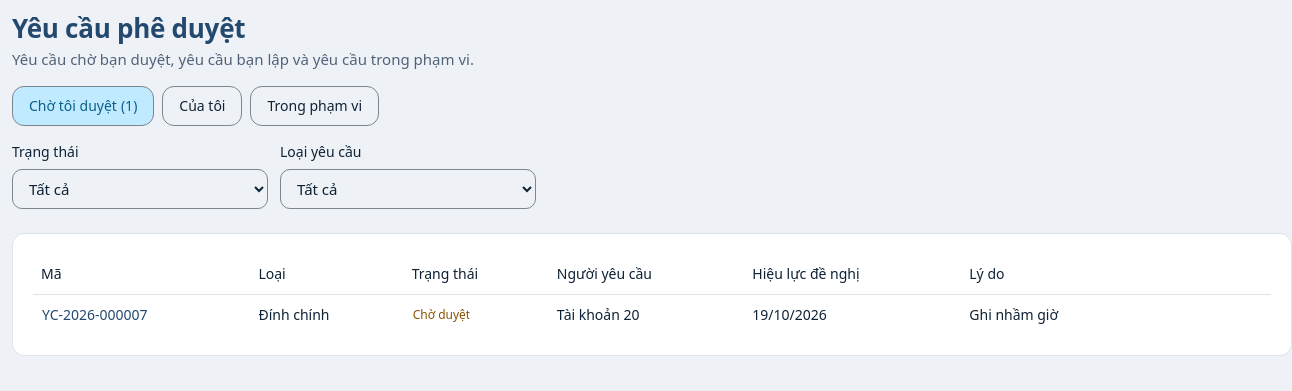
Test: ApprovalInbox › US5_1_tabChoToiDuyet_hienDong_loai_trangThai_ngayHieuLuc
Expected: the row that starts with "YC-2026-000007" is shown, x1=41 y1=304 x2=149 y2=326
Expected: the row that starts with "YC-2026-000007" shows "Đính chính", x1=258 y1=305 x2=330 y2=324
Click the button "Của tôi" at [202, 106], box x1=162 y1=86 x2=242 y2=126
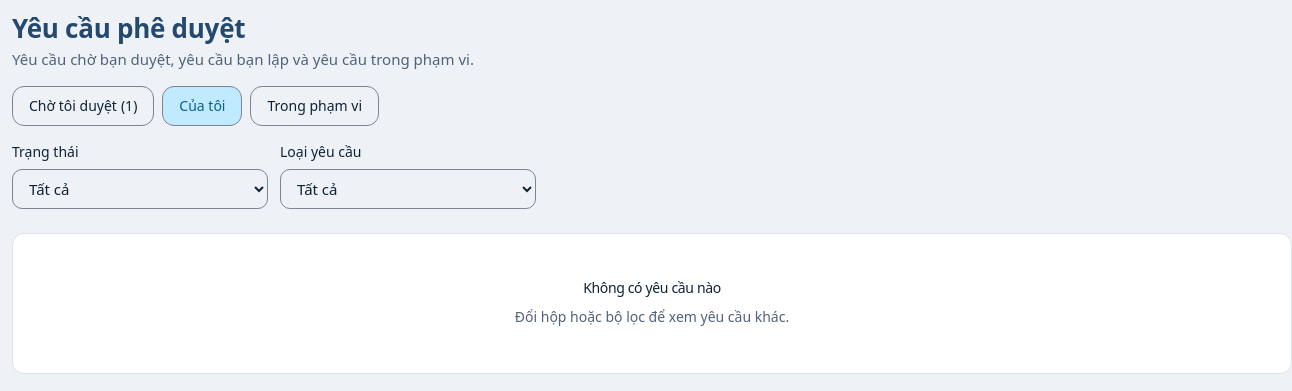
Now the text "Không có yêu cầu nào" is shown, box x1=583 y1=278 x2=721 y2=298
